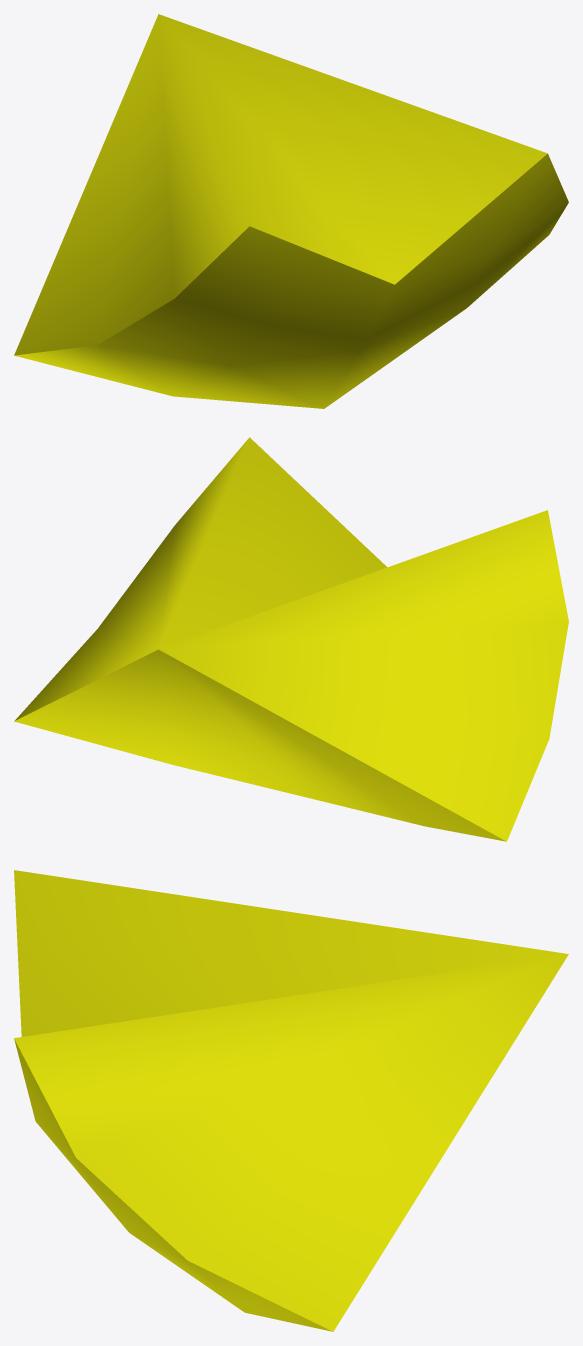
File: Beard_1.glb
3 views of the same model, one above another, from view 1: azimuth 30°, elevation 25°; view 2: azimuth 150°, elevation 25°; view 3: azimuth 270°, elevation 25° (orthographic). The views are drawn at different scales.
Size of the model in its own units: 12.11 by 6.43 by 10.22.
